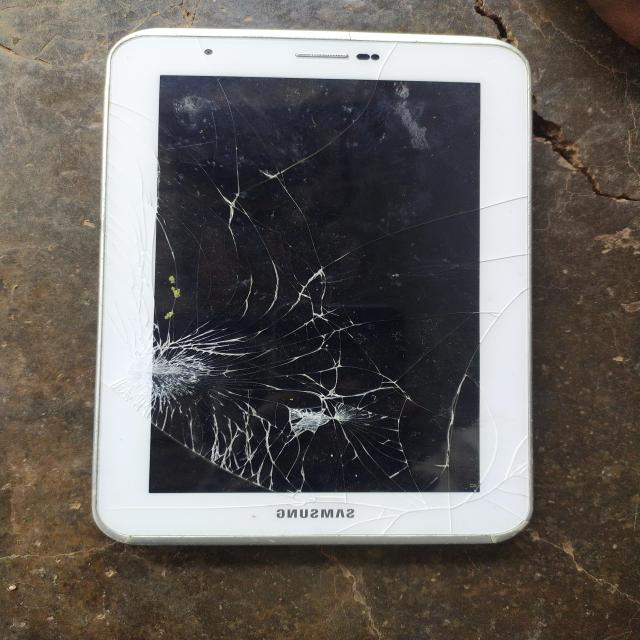mobile: (64, 22, 582, 556)
